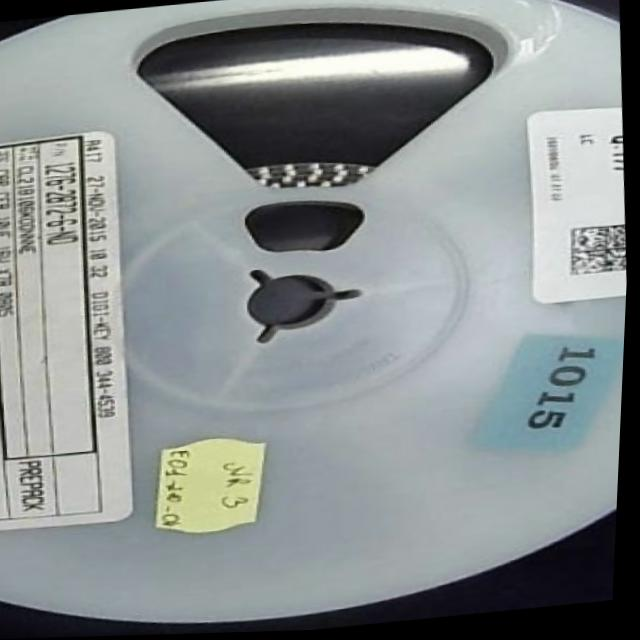datamatrix: (568, 228, 631, 283)
